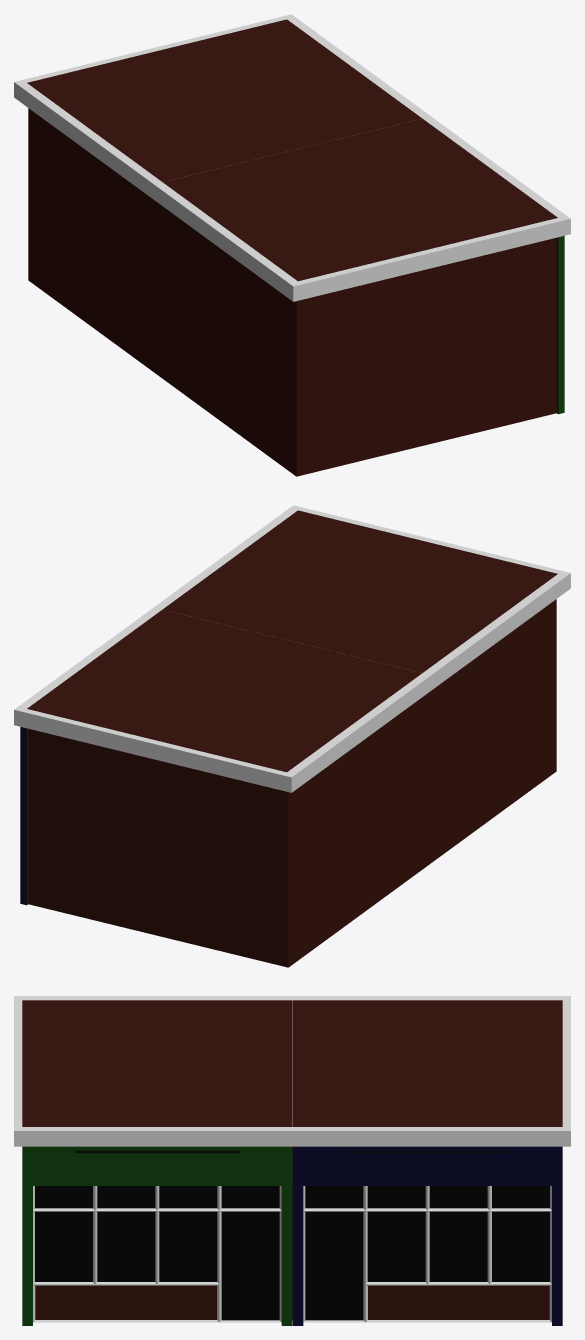
File: shopBreakableWalls.fbx
The picture shows the model from 3 angles, top to bottom: view 1: azimuth 30°, elevation 25°; view 2: azimuth 150°, elevation 25°; view 3: azimuth 270°, elevation 25°; orthographic projection.
Parts seen in each view (by area): view 1: Cube, Cube.017, Cube.012, Cube.011, Cube.004, Cube.002, Cube.003, Cube.010, Cube.009, Cube.001, Cube.016, Cube.015 (+4 smaller); view 2: Cube, Cube.051, Cube.046, Cube.045, Cube.036, Cube.037, Cube.044, Cube.035, Cube.043, Cube.038, Cube.050, Cube.049 (+4 smaller); view 3: Cube.
Boxes of the visible parts, x1,y1,x2,y2 form: Cube: (14,14,570,476); Cube.017: (301,275,554,363); Cube.012: (380,340,428,441); Cube.011: (428,340,475,441); Cube.004: (491,359,554,426); Cube.002: (492,275,555,358); Cube.003: (492,343,555,410); Cube.010: (301,390,364,472); Cube.009: (302,390,364,473); Cube.001: (301,337,364,405); Cube.016: (429,317,523,358); Cube.015: (333,340,427,389); Cube: (14,505,570,967); Cube.051: (30,766,283,854); Cube.046: (156,832,204,932); Cube.045: (109,831,156,932); Cube.036: (29,767,92,849); Cube.037: (29,834,92,901); Cube.044: (220,881,283,963); Cube.035: (220,828,283,896); Cube.043: (220,881,283,964); Cube.038: (30,850,92,917); Cube.050: (62,808,155,849); Cube.049: (157,831,251,880); Cube: (14,996,570,1325).
Bounding box in the file's own units: 754 × 504 × 1300.
